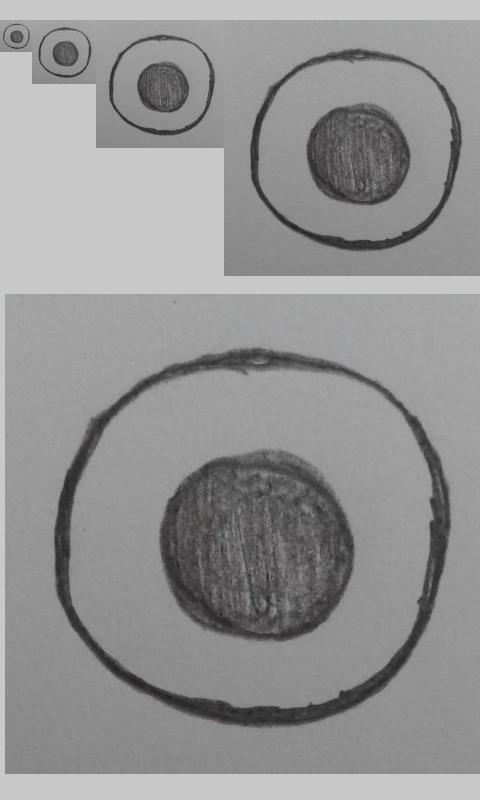radio_button: (52, 347, 452, 729), (249, 48, 462, 252), (108, 34, 215, 136), (37, 26, 92, 78), (2, 23, 30, 50)
